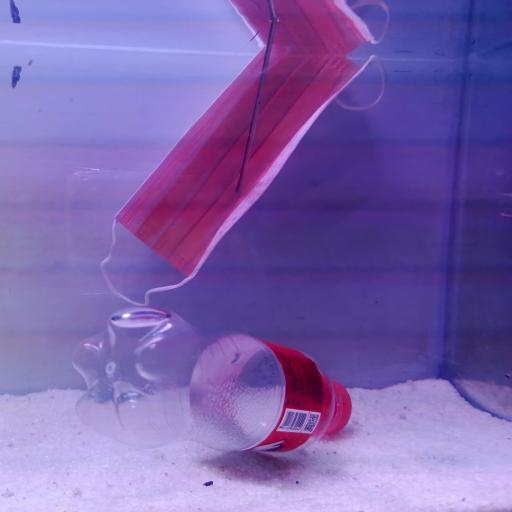bottle_cap: (325, 372, 355, 440)
mask: (96, 43, 390, 309)
plastic_bottle: (67, 312, 357, 465)
